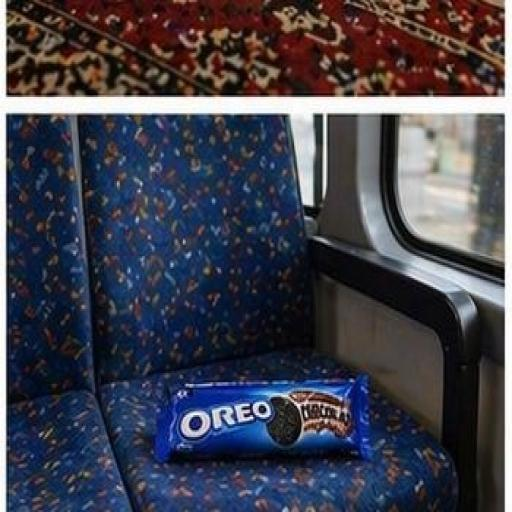oreo: (116, 330, 402, 490)
